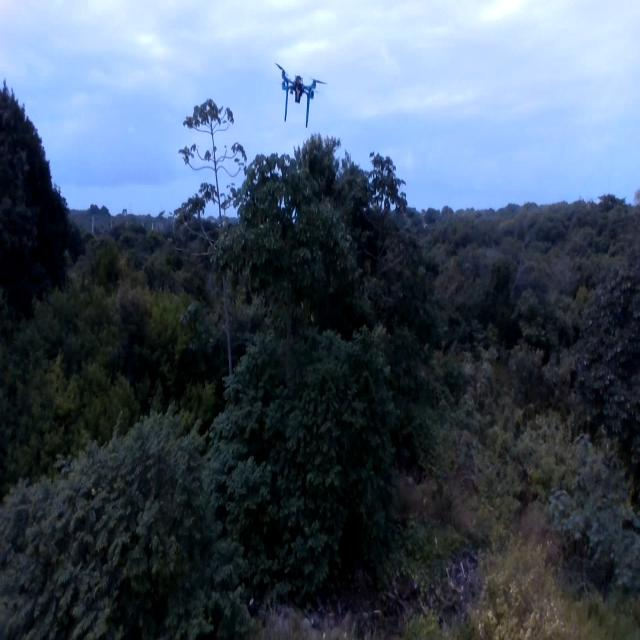-uav-: (266, 44, 328, 138)
